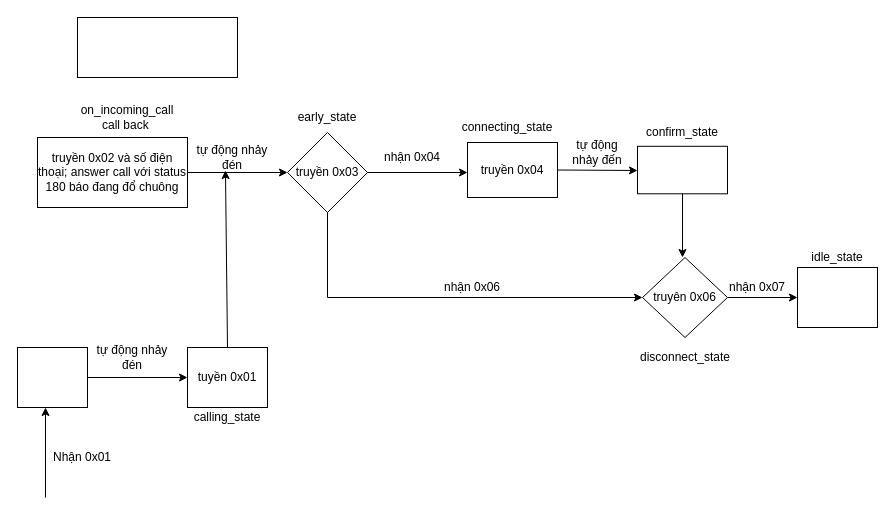
Image size: 895x523. Some labels were removed from this diagram. The centre of each missing label's shape, as x and y in pixels:
"Cuộc gọi lý tưởng chừa tính đến các trường hợp báo bận" belongs at point 157,47.
"Make call" belongs at point 52,377.
"truyền 0x05" belongs at point 682,169.
